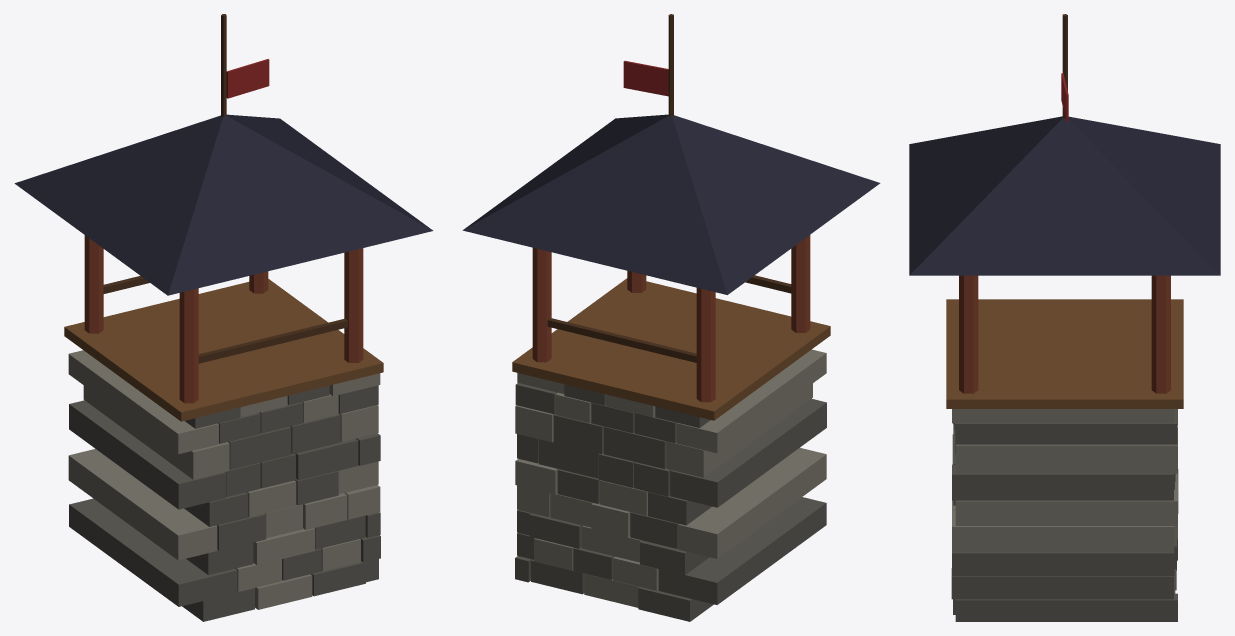
Rendered from sanseong_tower.glb.
The picture shows the model from 3 angles, left to right: view 1: azimuth 30°, elevation 25°; view 2: azimuth 150°, elevation 25°; view 3: azimuth 270°, elevation 25°; orthographic projection.
Parts seen in each view (by area): view 1: sanseong_tower; view 2: sanseong_tower; view 3: sanseong_tower.
Part boxes in pixels (x1=…): sanseong_tower: x1=14, y1=14, x2=433, y2=621; sanseong_tower: x1=462, y1=14, x2=880, y2=621; sanseong_tower: x1=909, y1=14, x2=1220, y2=621.
Bounding box in the file's own units: 4.2 × 8.29 × 4.2.
